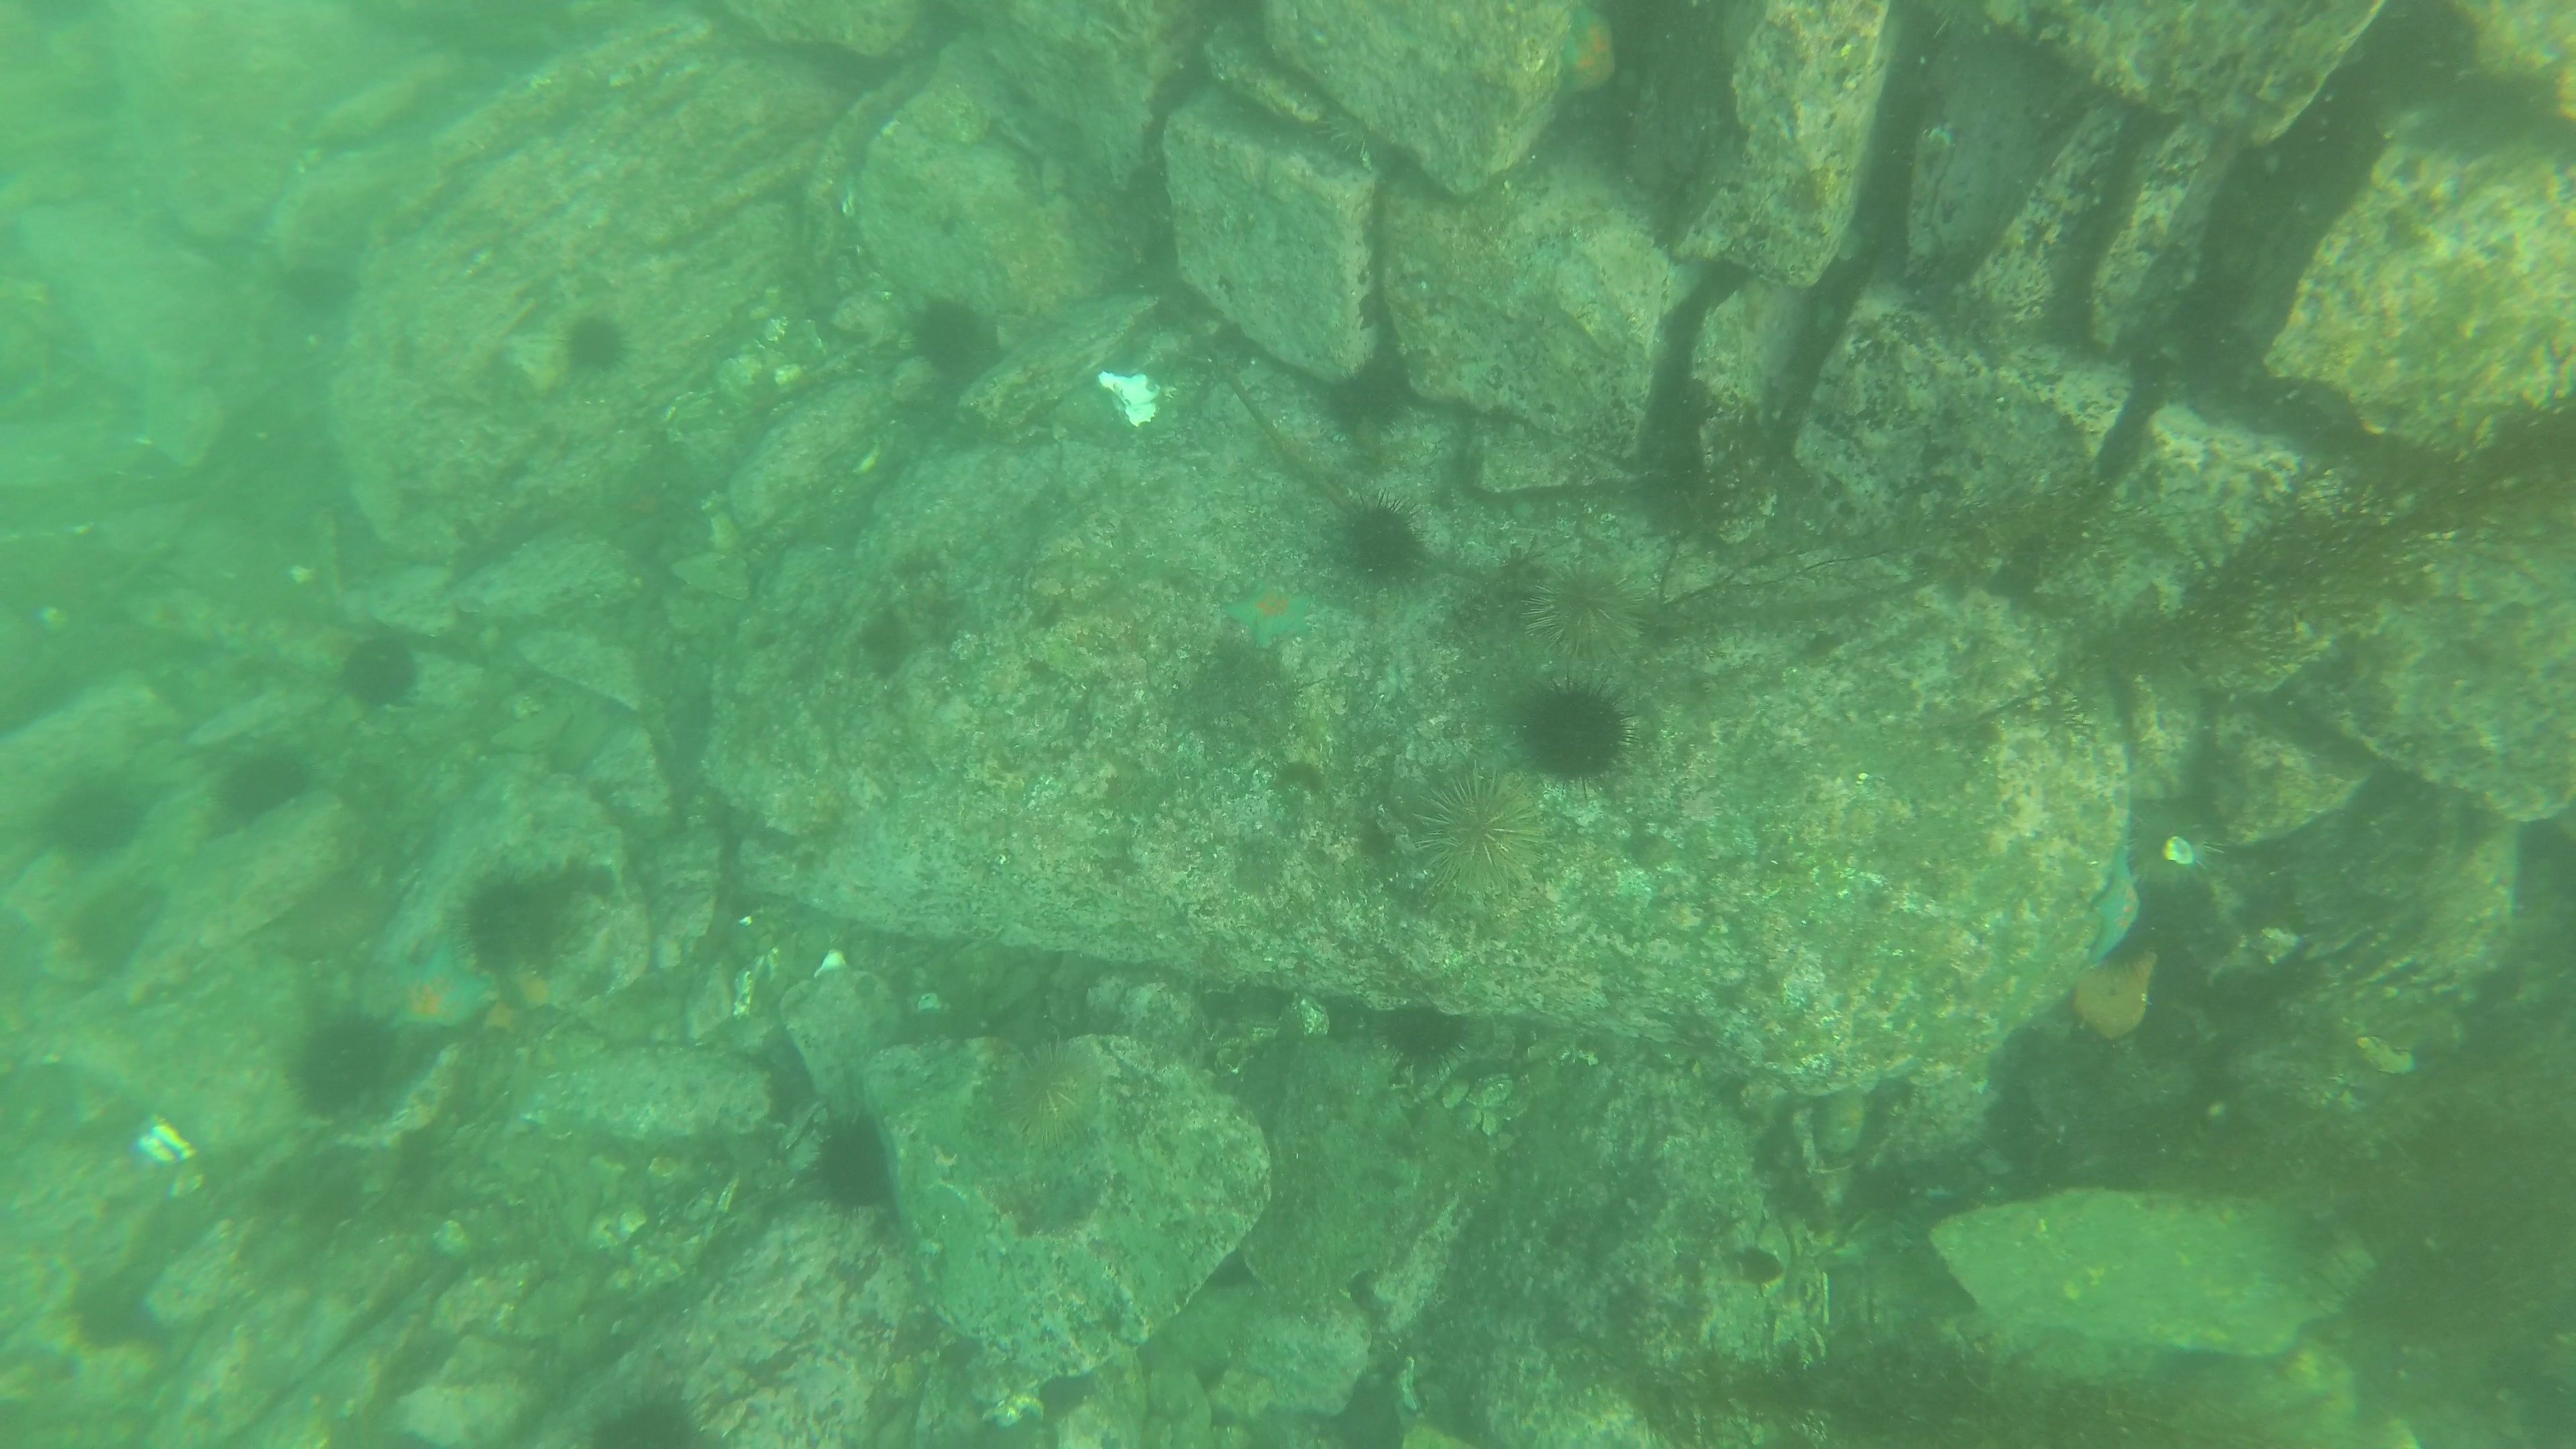echinus: (1419, 763, 1555, 893), (448, 863, 580, 984), (1513, 678, 1644, 786), (996, 1039, 1109, 1152), (1332, 487, 1440, 593), (1525, 561, 1637, 662), (809, 1113, 901, 1210), (294, 1026, 384, 1116), (41, 780, 140, 855), (1382, 1001, 1474, 1077), (212, 754, 306, 826), (1341, 354, 1419, 432), (909, 295, 984, 377), (340, 633, 416, 711), (561, 311, 635, 372)
starfish: (384, 948, 502, 1040), (1230, 575, 1320, 651), (2097, 847, 2151, 962), (1557, 5, 1624, 99)
